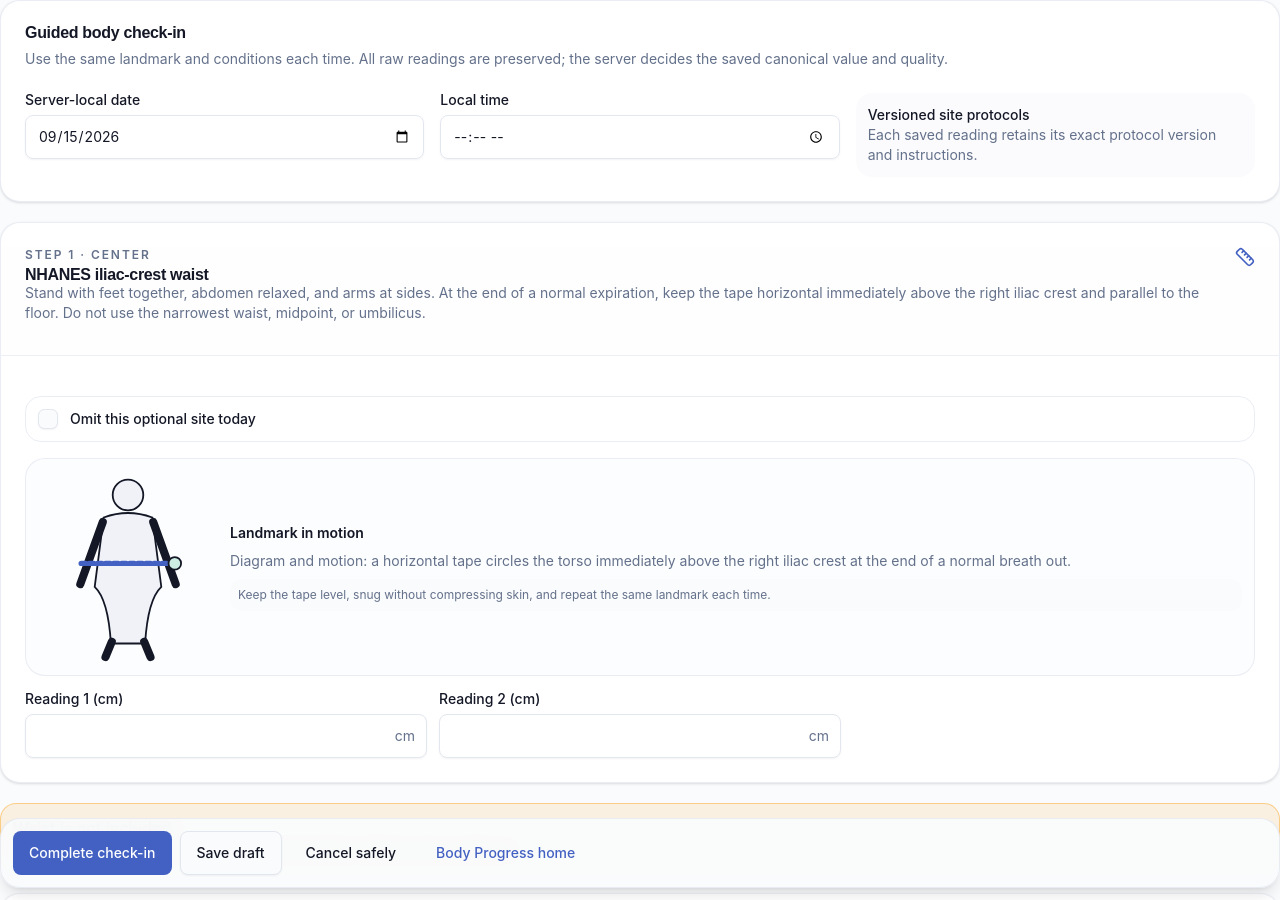
it: GuidedCheckInForm › ships exact protocol media and focuses reading three above server tolerance
This screenshot has width=1280, height=900.
Expected: the picture named "NHANES iliac-crest waist landmark diagram" is shown, left=38, top=471, right=218, bottom=663
Expected: the text "immediately above the right iliac crest" is shown, left=25, top=284, right=1199, bottom=321
Type "84.0" into the number field labelled "Reading 1 (cm)" at (226, 736), box left=25, top=714, right=427, bottom=758
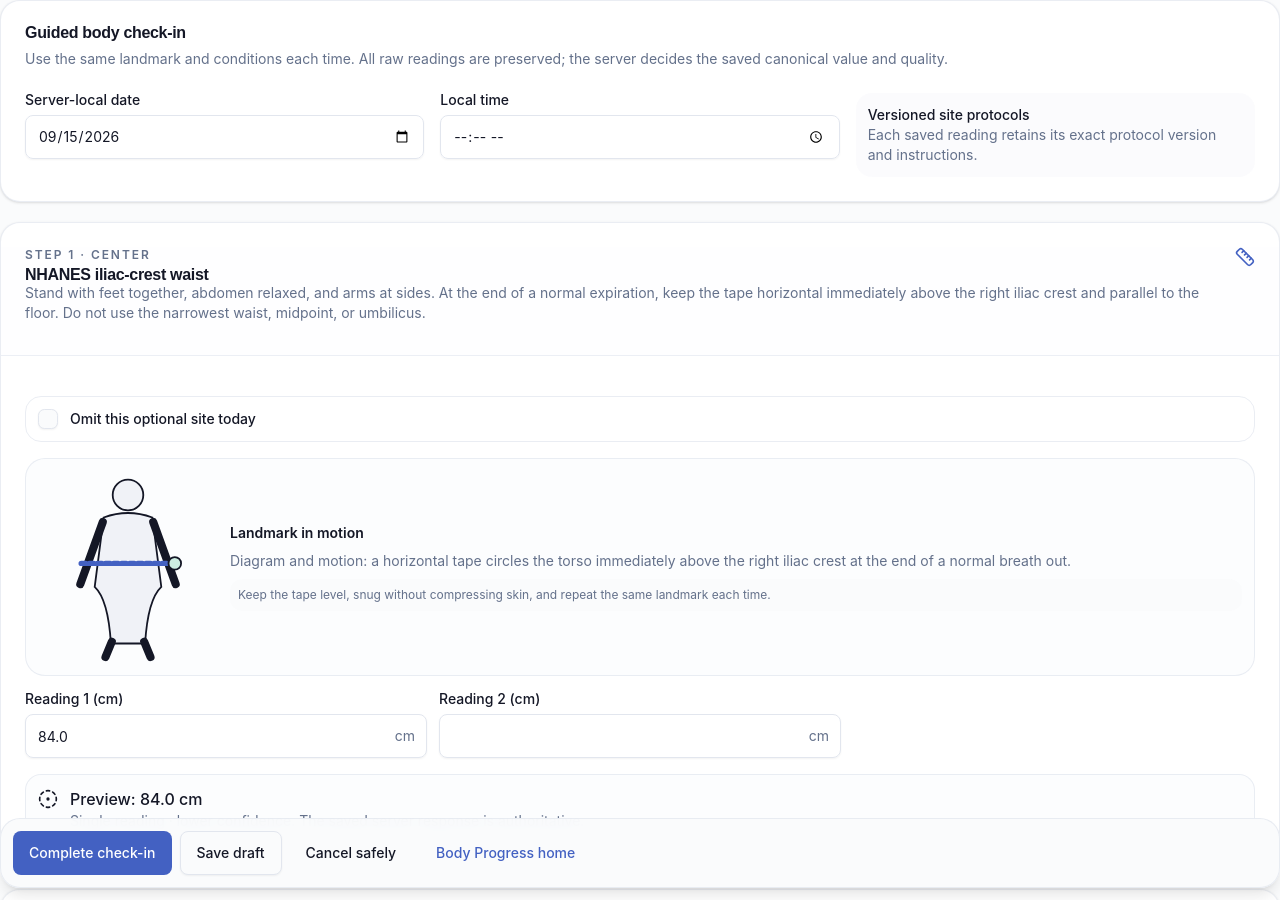
Type "85.2" into the number field labelled "Reading 2 (cm)" at (640, 736), box left=439, top=714, right=841, bottom=758
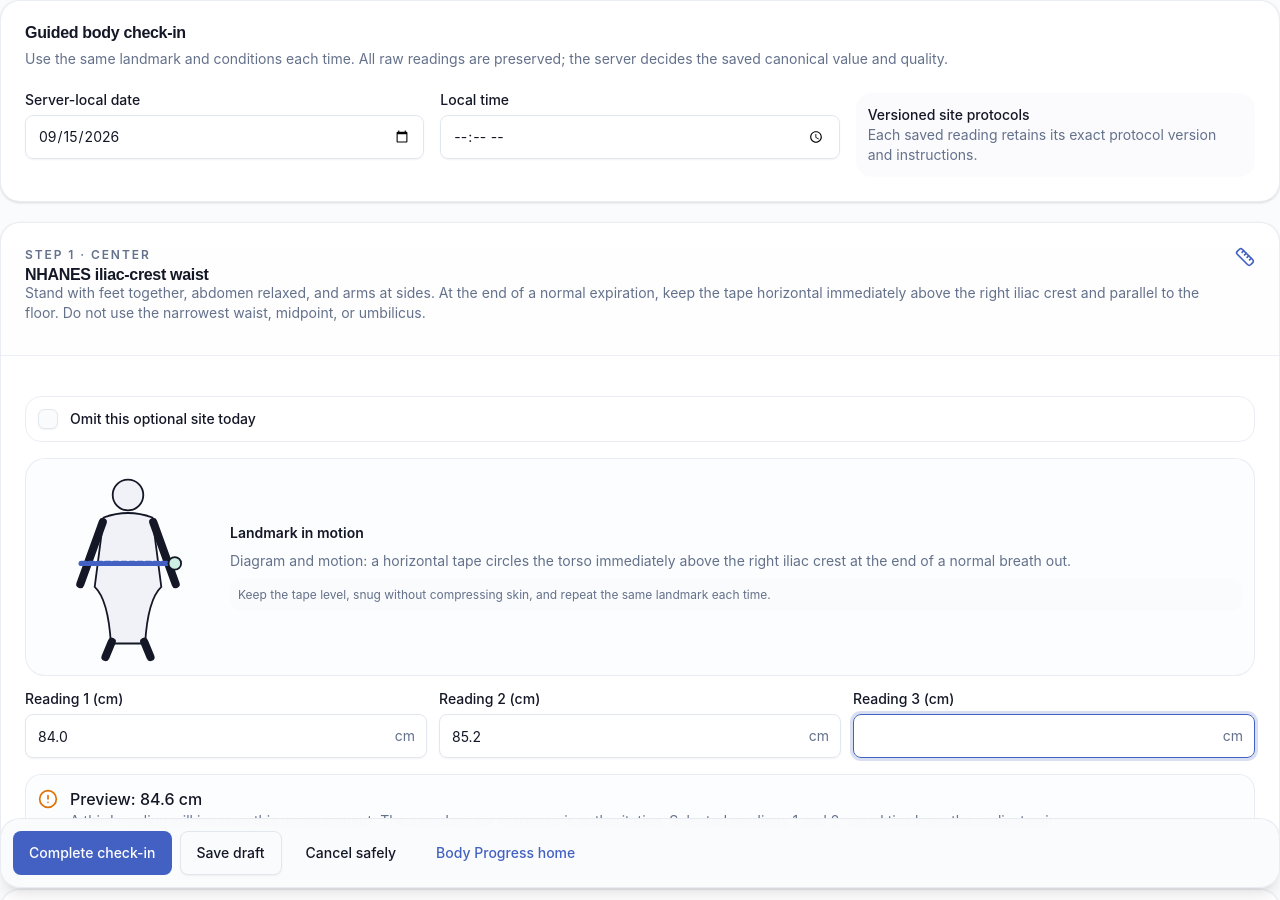
Now the text "third reading will improve" is shown, box left=70, top=812, right=372, bottom=829
